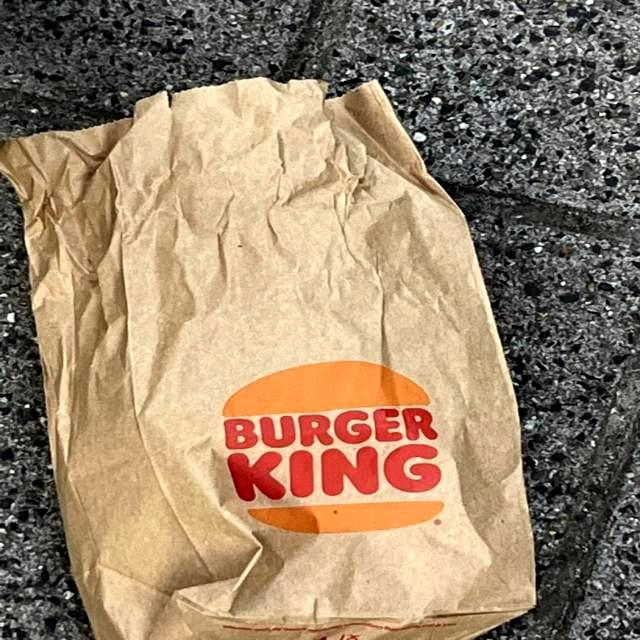Paper: (0, 72, 538, 636)
